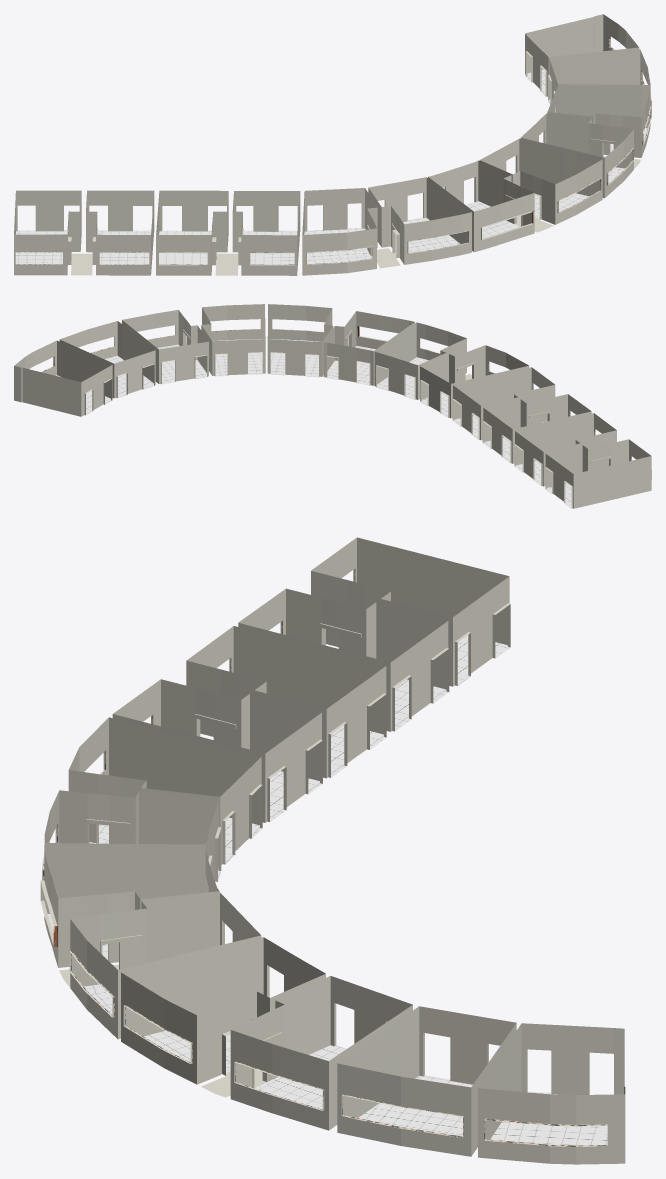
Rendered from CLASSROOM ROOMS+FLOOR.fbx.
The picture shows the model from 3 angles, top to bottom: view 1: azimuth 30°, elevation 25°; view 2: azimuth 150°, elevation 25°; view 3: azimuth 270°, elevation 25°; orthographic projection. The views are drawn at different scales.
Visible parts, largest first — view 1: CLASSROOM_5_6, CLASSROOM_3_4, CLASSROOM_7_8, CLASSROOM_9_10, CLASSROOM_1_2, LIFE_SKILLS_ROOM, MINIMART, CLASSROOM_9_10_FLOOR, CLASSROOM_7_8_FLOOR, CLASSROOM_5_6_FLOOR, CLASSROOM_3_4_FLOOR; view 2: CLASSROOM_9_10, CLASSROOM_5_6, CLASSROOM_7_8, CLASSROOM_1_2, CLASSROOM_3_4, LIFE_SKILLS_ROOM, MINIMART, CLASSROOM_3_4_FLOOR, CLASSROOM_1_2_FLOOR, CLASSROOM_5_6_FLOOR, MINIMART_FLOOR, CLASSROOM_7_8_FLOOR (+1 smaller); view 3: CLASSROOM_1_2, CLASSROOM_7_8, CLASSROOM_9_10, CLASSROOM_3_4, CLASSROOM_5_6, MINIMART, LIFE_SKILLS_ROOM, CLASSROOM_1_2_FLOOR, LIFE_SKILLS_ROOM_FLOOR, MINIMART_FLOOR, CLASSROOM_7_8_FLOOR, CLASSROOM_9_10_FLOOR.
Part boxes in pixels (<box>): CLASSROOM_5_6: <box>302,177,471,275</box>; CLASSROOM_3_4: <box>428,138,602,252</box>; CLASSROOM_7_8: <box>156,190,300,275</box>; CLASSROOM_9_10: <box>14,190,154,275</box>; CLASSROOM_1_2: <box>520,86,651,198</box>; LIFE_SKILLS_ROOM: <box>525,14,639,96</box>; MINIMART: <box>548,49,651,125</box>; CLASSROOM_9_10_FLOOR: <box>15,230,151,275</box>; CLASSROOM_7_8_FLOOR: <box>159,230,297,275</box>; CLASSROOM_5_6_FLOOR: <box>304,217,460,268</box>; CLASSROOM_3_4_FLOOR: <box>466,193,588,238</box>; CLASSROOM_9_10: <box>514,413,651,508</box>; CLASSROOM_5_6: <box>374,322,529,418</box>; CLASSROOM_7_8: <box>452,367,591,463</box>; CLASSROOM_1_2: <box>122,304,265,383</box>; CLASSROOM_3_4: <box>267,304,414,385</box>; LIFE_SKILLS_ROOM: <box>14,340,112,416</box>; MINIMART: <box>59,321,155,398</box>; CLASSROOM_3_4_FLOOR: <box>270,339,375,385</box>; CLASSROOM_1_2_FLOOR: <box>157,338,264,384</box>; CLASSROOM_5_6_FLOOR: <box>376,357,471,417</box>; MINIMART_FLOOR: <box>105,355,153,397</box>; CLASSROOM_7_8_FLOOR: <box>453,415,510,462</box>; CLASSROOM_1_2: <box>121,937,412,1130</box>; CLASSROOM_7_8: <box>112,626,386,822</box>; CLASSROOM_9_10: <box>238,537,510,731</box>; CLASSROOM_3_4: <box>40,844,261,1039</box>; CLASSROOM_5_6: <box>42,717,262,881</box>; MINIMART: <box>337,1006,516,1156</box>; LIFE_SKILLS_ROOM: <box>478,1023,625,1164</box>; CLASSROOM_1_2_FLOOR: <box>144,1031,346,1109</box>; LIFE_SKILLS_ROOM_FLOOR: <box>490,1091,607,1145</box>; MINIMART_FLOOR: <box>358,1075,472,1136</box>; CLASSROOM_7_8_FLOOR: <box>270,725,386,821</box>; CLASSROOM_9_10_FLOOR: <box>395,635,510,731</box>.
Bounding box in the file's own units: 517 × 29.93 × 228.
1 material, 1 textured.
